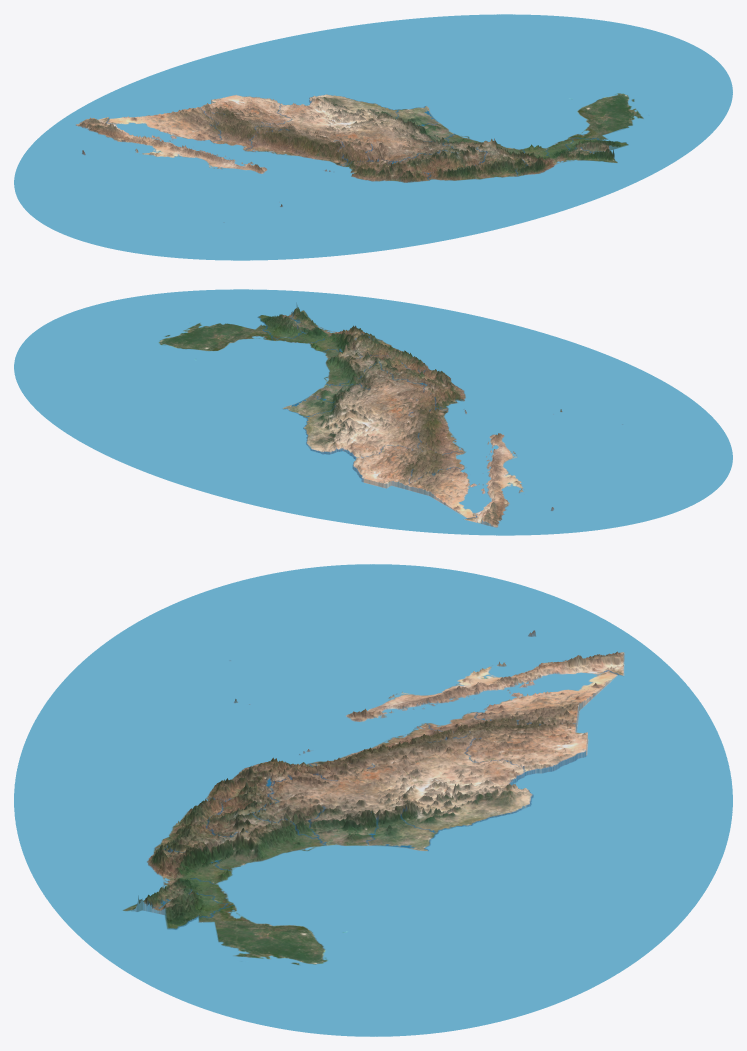
File: MEX-terrain.glb
3 renders of one model, top to bottom at view 1: azimuth 30°, elevation 25°; view 2: azimuth 150°, elevation 25°; view 3: azimuth 270°, elevation 25°, orthographic. The views are drawn at different scales.
Parts seen in each view (by area): view 1: México; view 2: México; view 3: México.
Boxes of the visible parts, x1,y1,x2,y2 form: México: (14, 14, 732, 260); México: (14, 289, 732, 535); México: (14, 564, 732, 1036).
Size of the model in its own units: 2.47 by 0.0566 by 1.59.
Materials: 1 (1 with a texture image).
